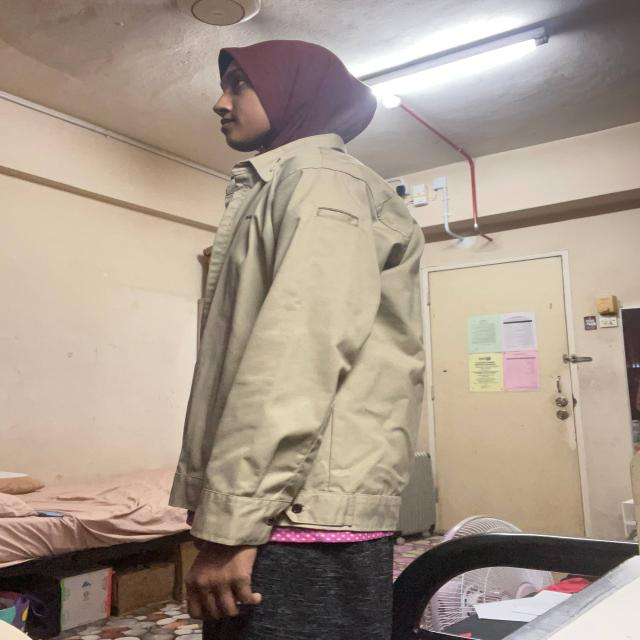person_with_labcoat: (170, 40, 424, 640)
